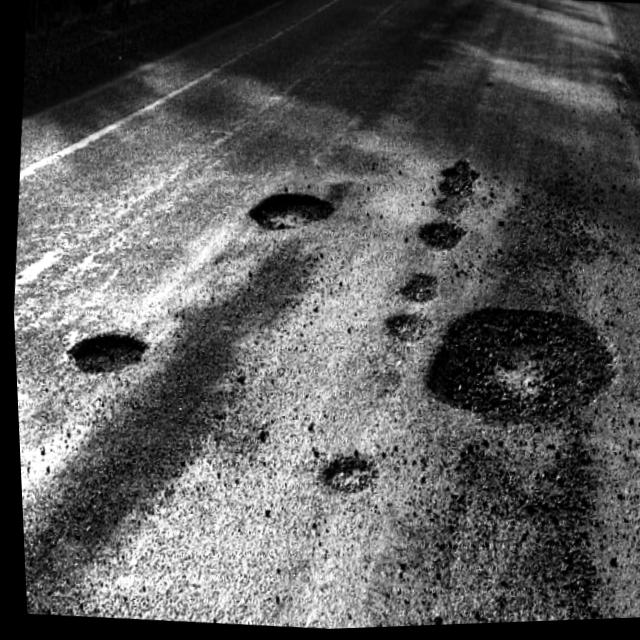pathole: (318, 150, 618, 568), (244, 165, 364, 268), (34, 317, 156, 414)
